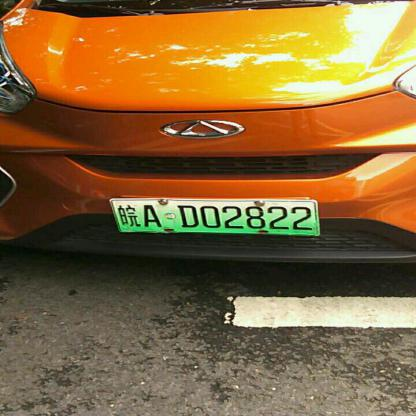lp: (112, 200, 316, 232)
